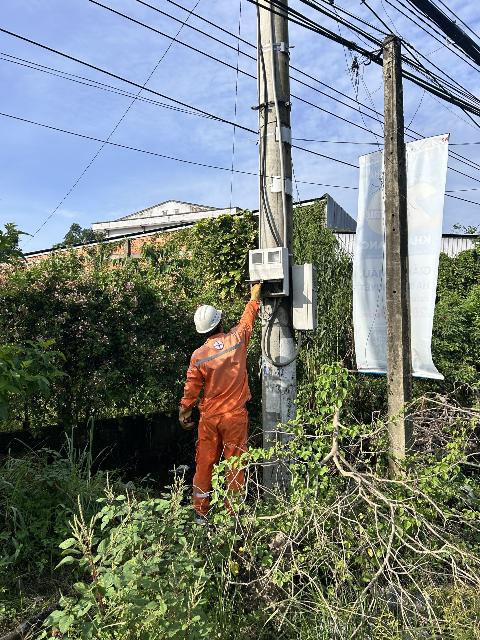gloves: (174, 395, 197, 434), (242, 283, 264, 305)
helmet: (187, 300, 226, 331)
